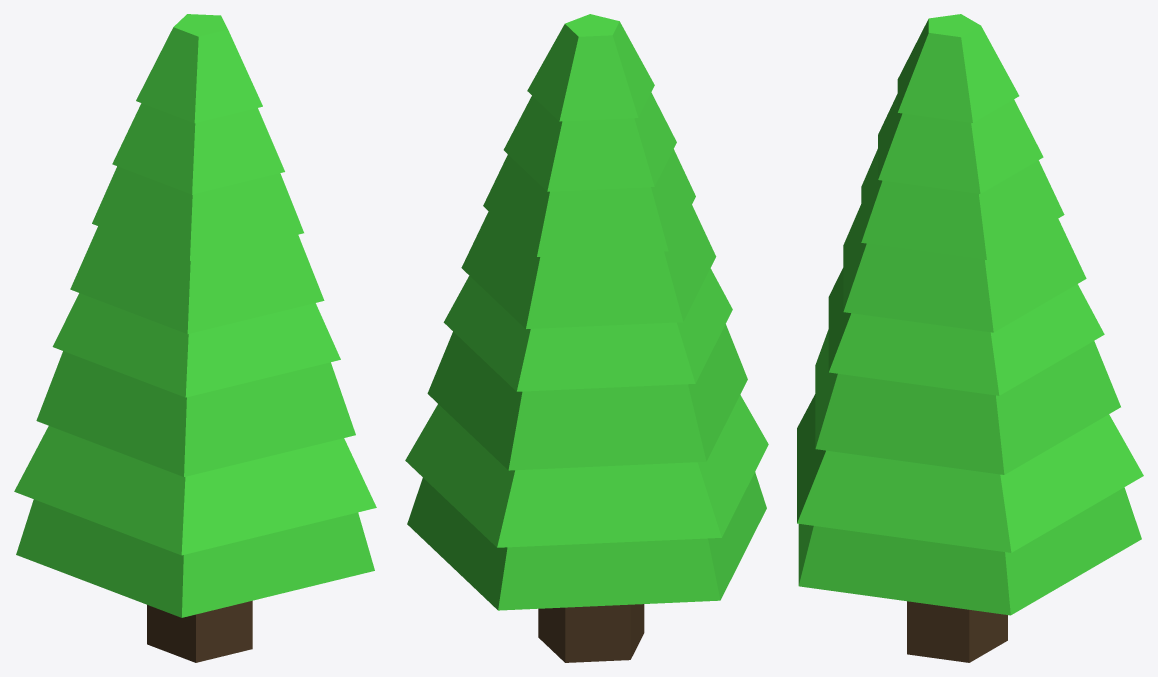
File: Tree_1.fbx
3 views of the same model, side by side, from view 1: azimuth 30°, elevation 25°; view 2: azimuth 150°, elevation 25°; view 3: azimuth 270°, elevation 25° (orthographic).
Visible parts, largest first — view 1: Tree_LOD0; view 2: Tree_LOD0; view 3: Tree_LOD0.
Part boxes in pixels (x1,y1,x2,y2): Tree_LOD0: [14, 14, 376, 662]; Tree_LOD0: [405, 14, 768, 662]; Tree_LOD0: [797, 14, 1143, 662].
Size of what is drawn, in the model's own units: 163 by 303 by 155.
